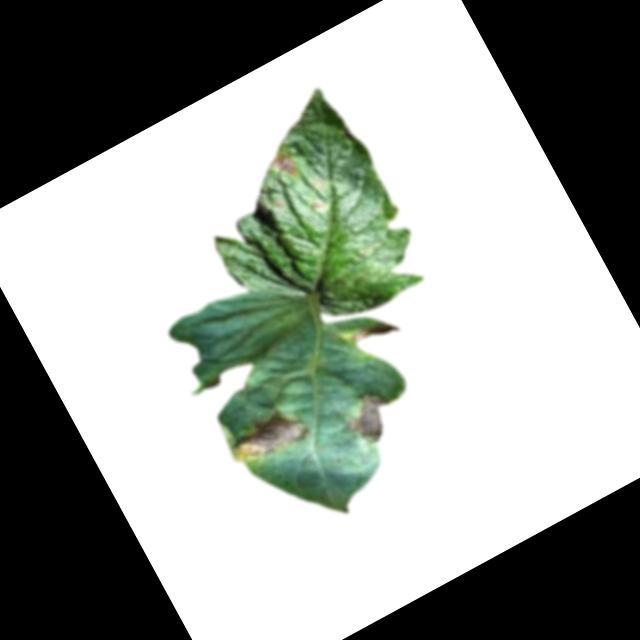Early_blight: (221, 397, 313, 476), (336, 381, 404, 451), (348, 310, 400, 352), (265, 147, 302, 185)
